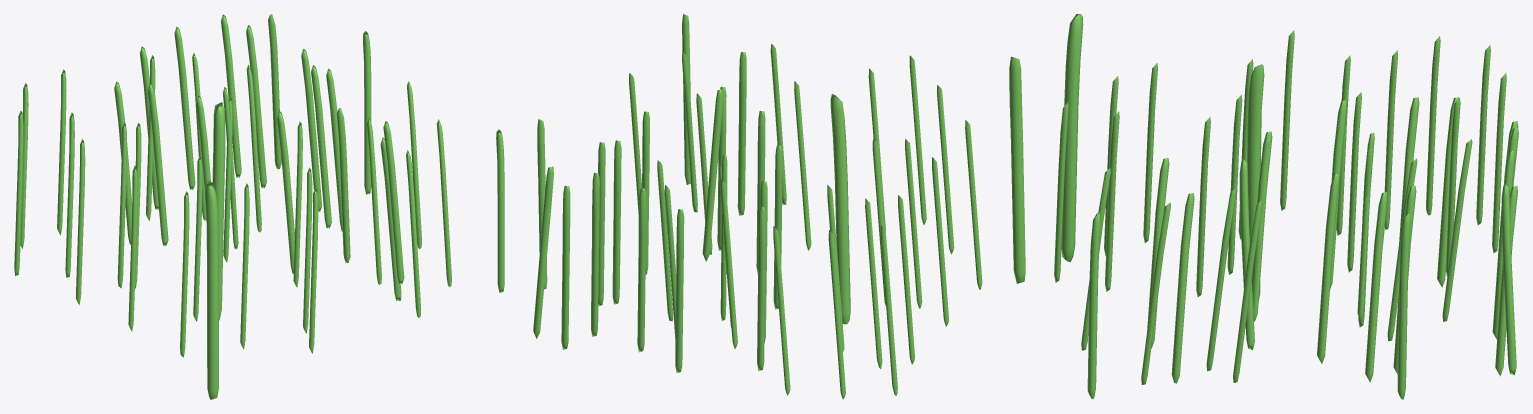
Rendered from wheat_sapling.glb.
3 views of the same model, side by side, from view 1: azimuth 30°, elevation 25°; view 2: azimuth 150°, elevation 25°; view 3: azimuth 270°, elevation 25° (orthographic). The views are drawn at different scales.
Parts seen in each view (by area): view 1: Cube.001; view 2: Cube.001; view 3: Cube.001.
Boxes of the visible parts, x1=… form: Cube.001: x1=14, y1=14, x2=504, y2=399; Cube.001: x1=533, y1=14, x2=1025, y2=399; Cube.001: x1=1054, y1=14, x2=1518, y2=399.
Bounding box in the file's own units: 3.32 × 1.98 × 3.35.
